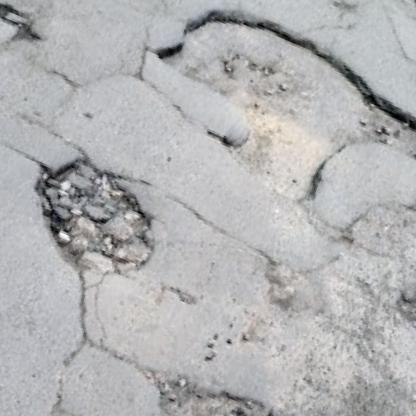pothole: (118, 0, 416, 249), (9, 137, 179, 294), (125, 353, 297, 416), (0, 0, 49, 53), (388, 272, 416, 341), (384, 0, 416, 24)
